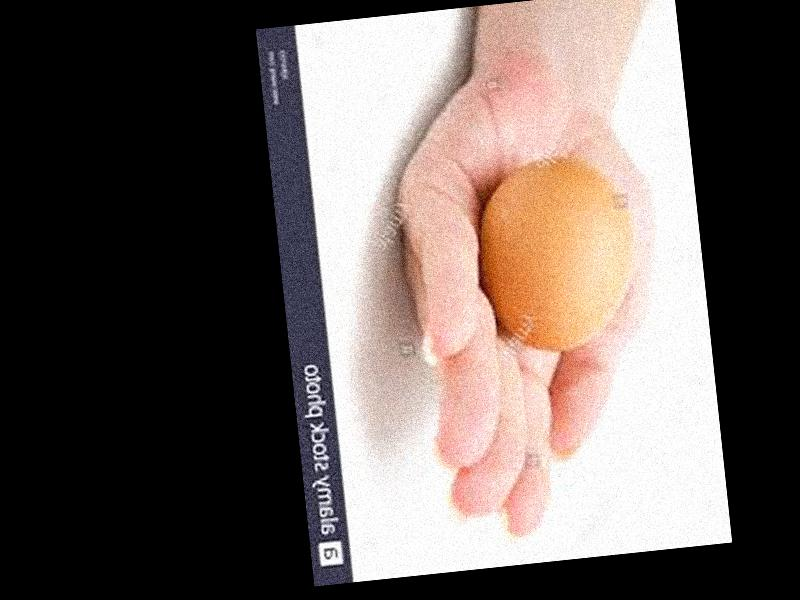Eggs: (472, 149, 646, 356)
